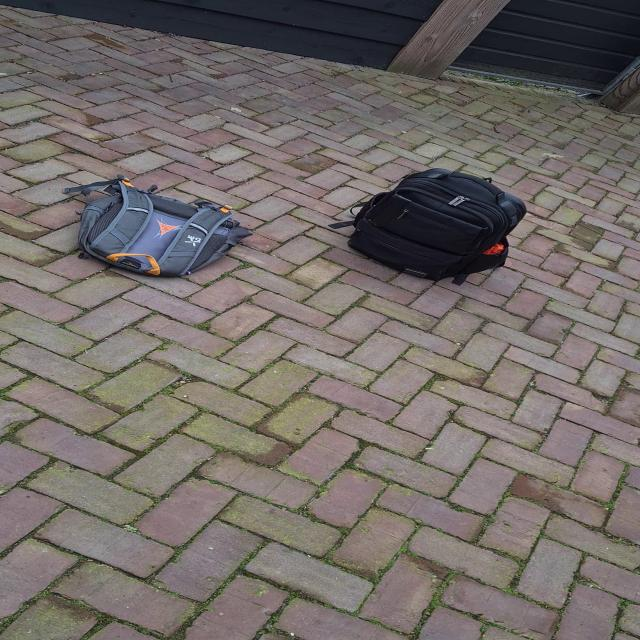backpack: (338, 164, 533, 282), (66, 175, 254, 280)
